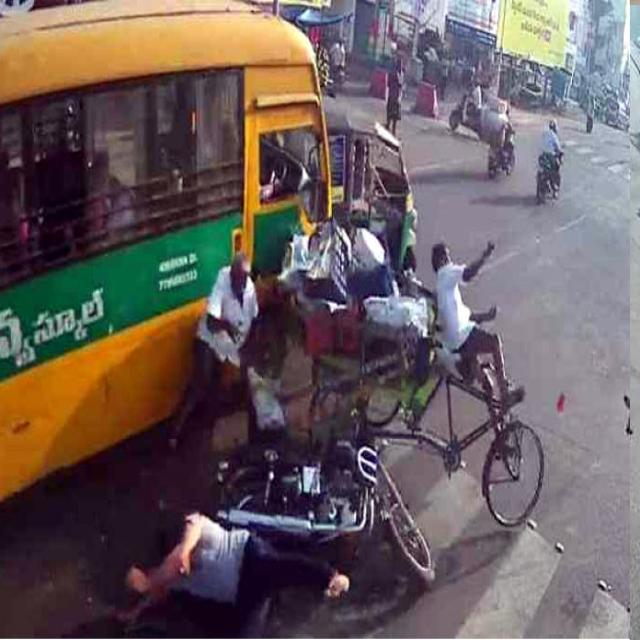accident: (242, 218, 544, 525), (218, 408, 434, 581)
autorickshaw: (326, 108, 418, 269)
bus: (0, 3, 331, 501)
